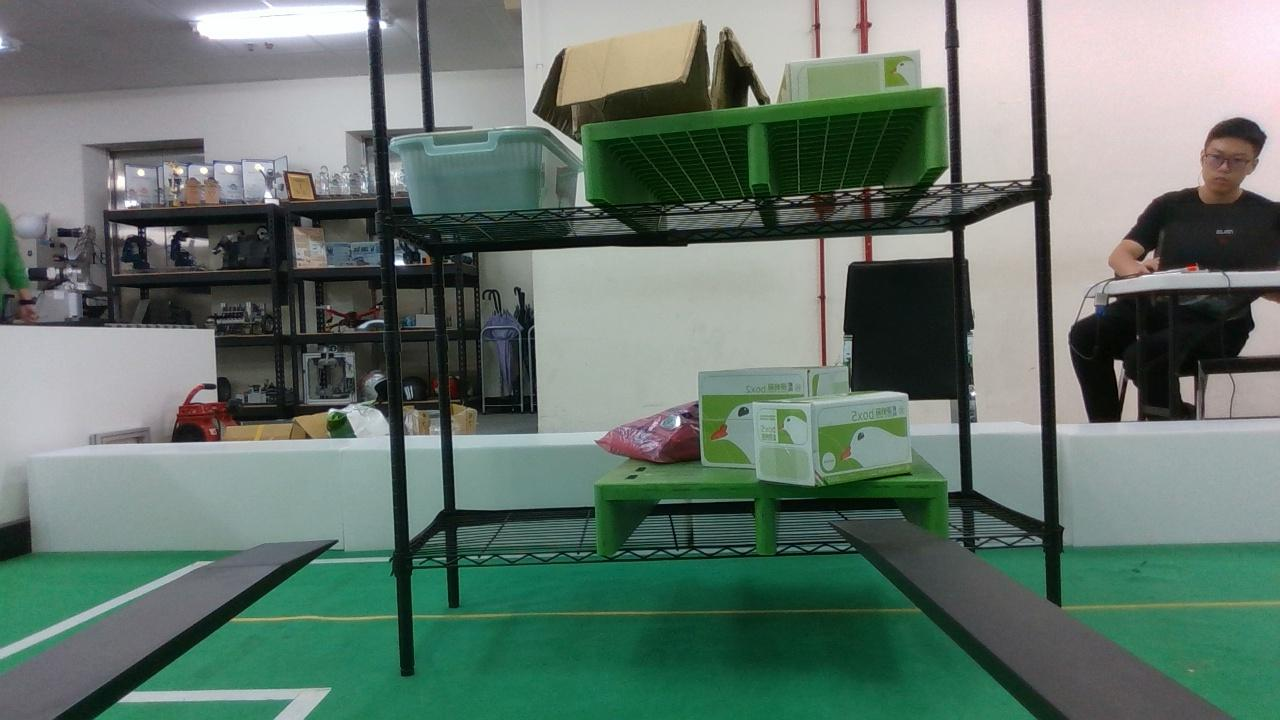Pallet: (572, 89, 954, 207), (585, 483, 951, 562)
